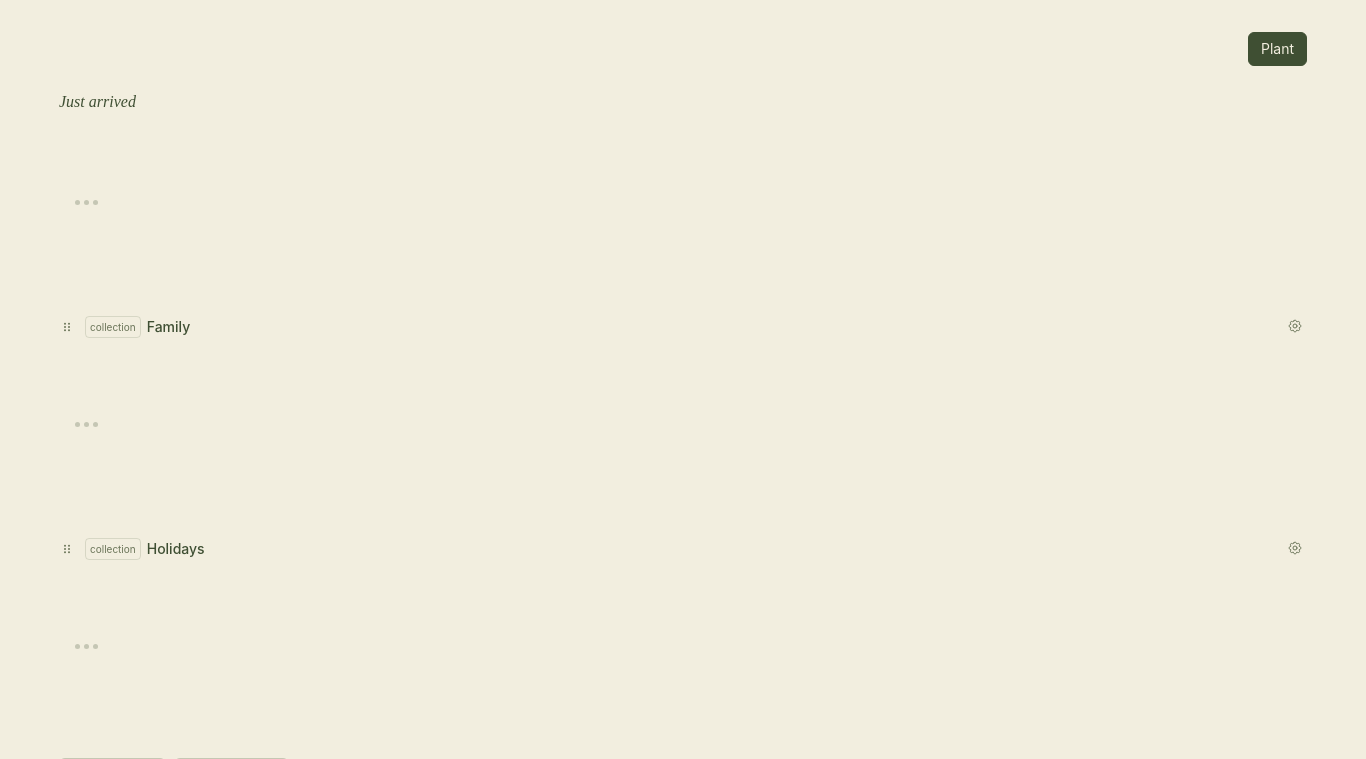
Test: GardenPage › gear menu opens on click showing Edit, Delete, Move up, Move down
What coordinates should you click on to do the following:
click the button titled "Plot options" in the row of "Family"
I would click on:
 (1295, 326)
Its box is [1283,314,1307,338].
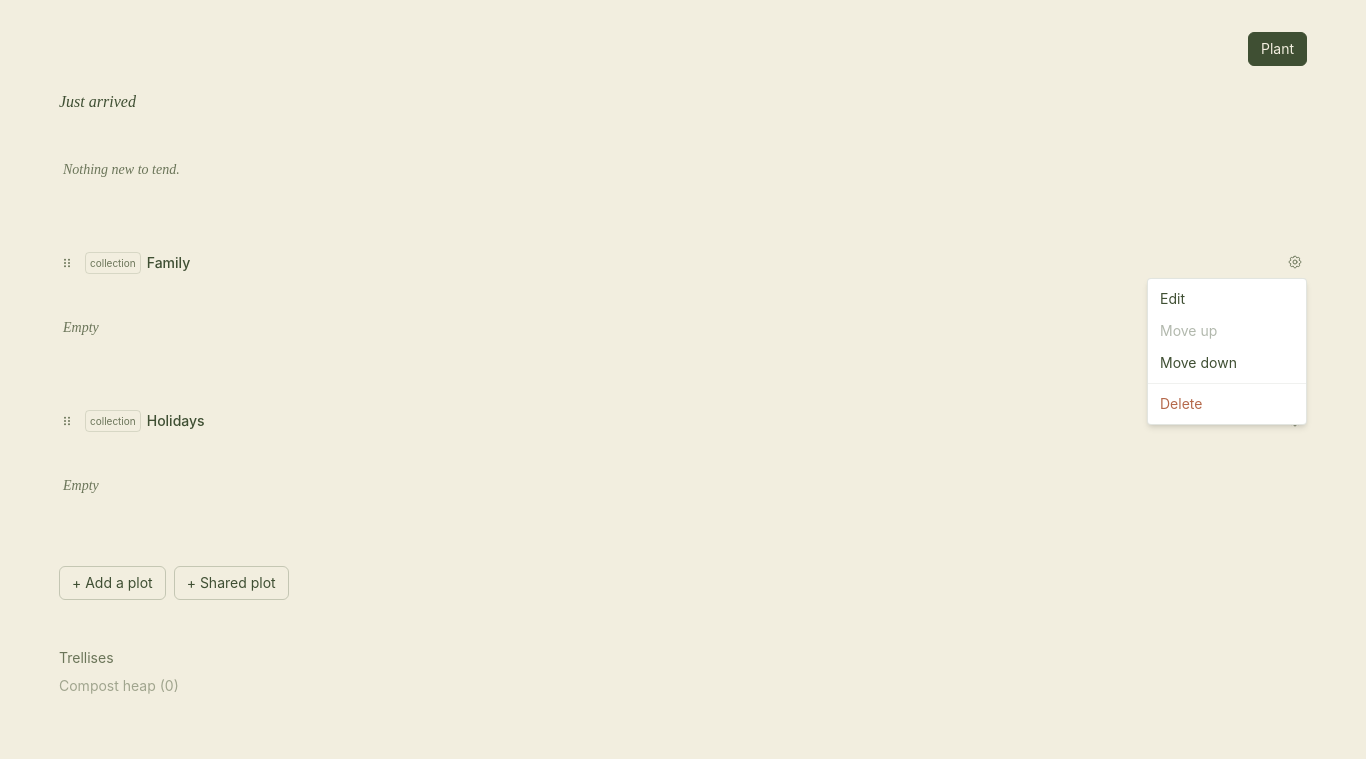
Now the button "Edit" is shown, box [1148,283,1306,315]
Now the button "Delete" is shown, box [1148,388,1306,420]
Now the button "Move up" is shown, box [1148,315,1306,347]
